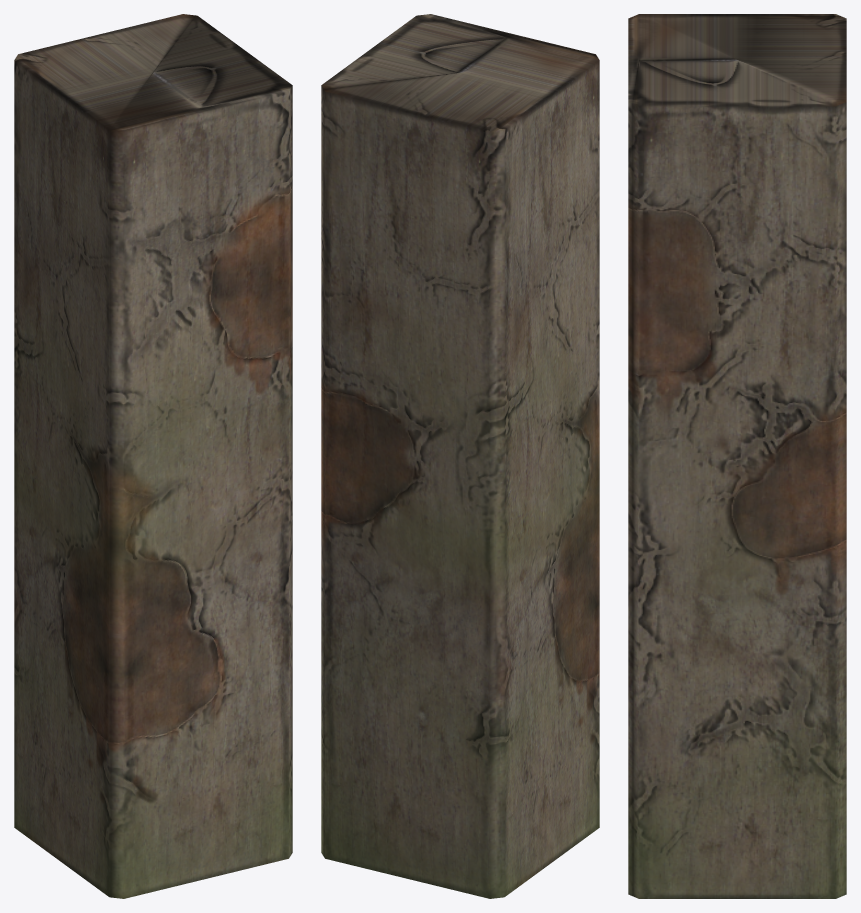
The model's file is Pillar_005.fbx.
The picture shows the model from 3 angles, left to right: view 1: azimuth 30°, elevation 25°; view 2: azimuth 150°, elevation 25°; view 3: azimuth 270°, elevation 25°; orthographic projection. The views are drawn at different scales.
Parts seen in each view (by area): view 1: Collumn; view 2: Collumn; view 3: Collumn.
Part boxes in pixels (box(x1,y1,x2,y2)): Collumn: box(14, 14, 292, 898); Collumn: box(321, 14, 599, 898); Collumn: box(628, 14, 846, 898).
Bounding box in the file's own units: 100 × 400 × 100.
